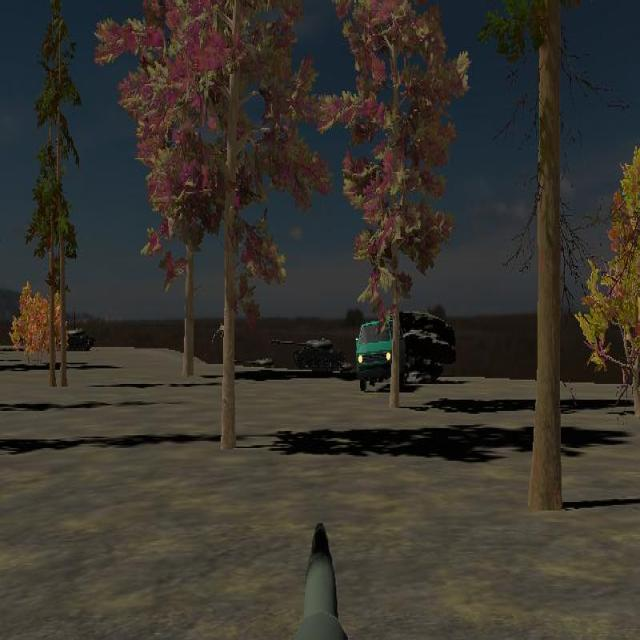Tank: (271, 334, 343, 374)
car: (355, 318, 392, 390)
